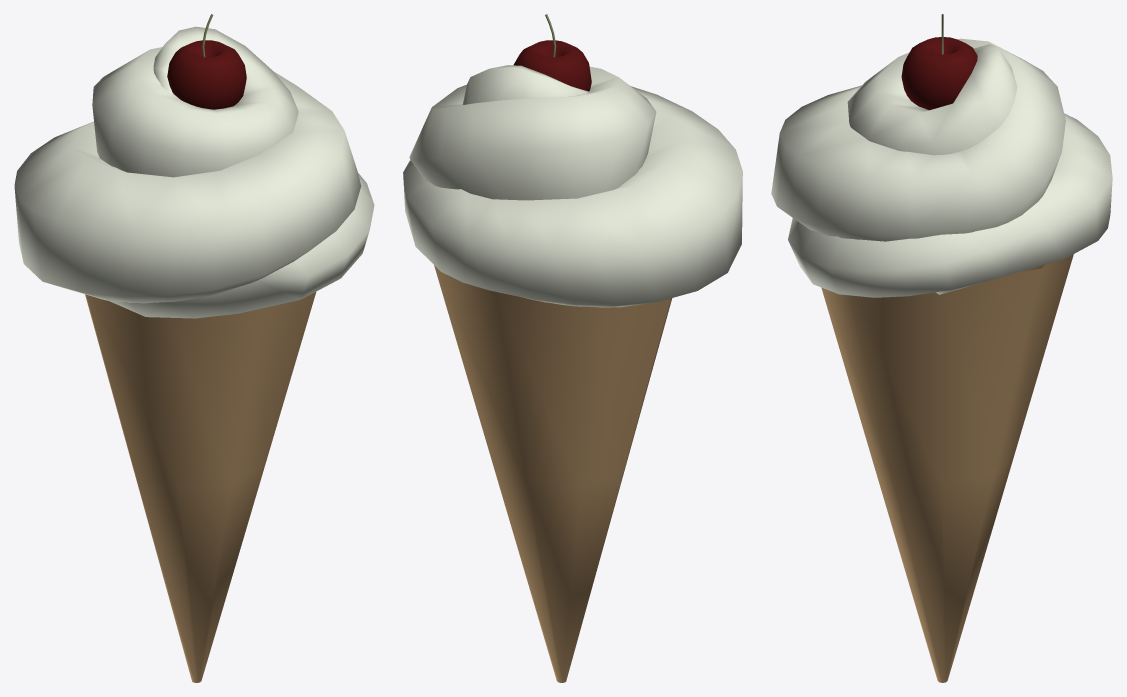
Rendered from ice_cream.fbx.
The picture shows the model from 3 angles, left to right: view 1: azimuth 30°, elevation 25°; view 2: azimuth 150°, elevation 25°; view 3: azimuth 270°, elevation 25°; orthographic projection.
Parts seen in each view (by area): view 1: CONE; view 2: CONE; view 3: CONE.
Part boxes in pixels (left/top/right/bottom): CONE: left=14, top=14, right=374, bottom=682; CONE: left=403, top=14, right=742, bottom=682; CONE: left=771, top=14, right=1112, bottom=682.
Size of the model in its own units: 300 by 605 by 278.
